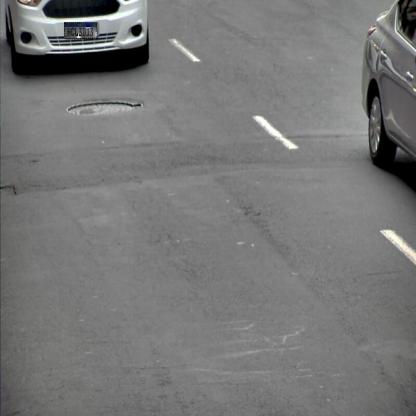PlacaM: (64, 22, 97, 39)
